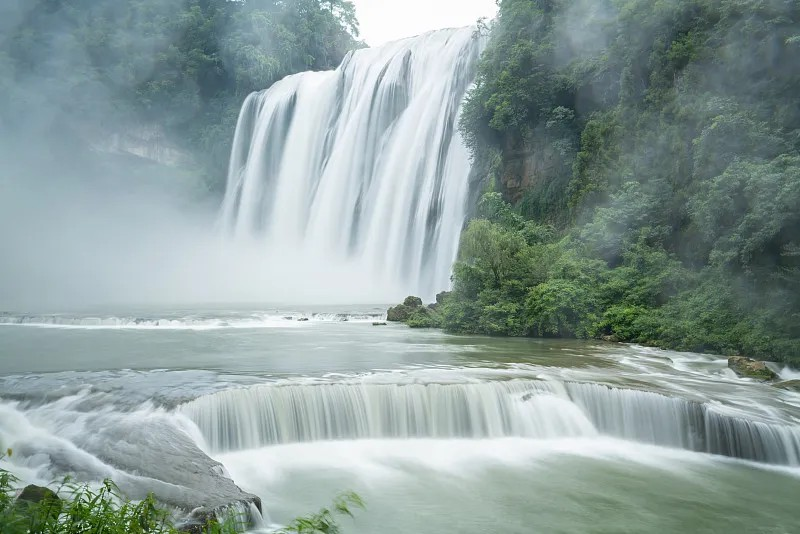Huangguoshu: (221, 24, 474, 303)
